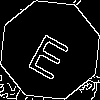E: (25, 25, 77, 81)
